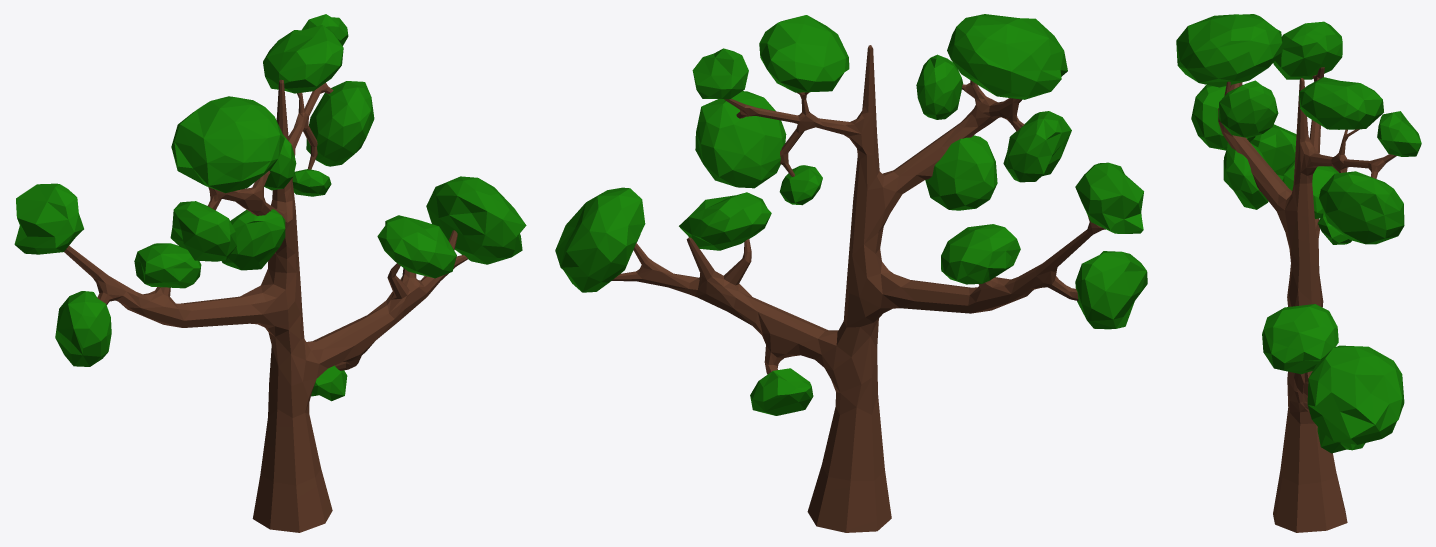
The model's file is 3Stad.fbx.
3 renders of one model, left to right at view 1: azimuth 30°, elevation 25°; view 2: azimuth 150°, elevation 25°; view 3: azimuth 270°, elevation 25°, orthographic. The views are drawn at different scales.
Visible parts, largest first — view 1: Plane.005; view 2: Plane.005; view 3: Plane.005.
Part boxes in pixels (x1,y1,x2,y2): Plane.005: (14,14,526,532); Plane.005: (555,14,1147,532); Plane.005: (1176,14,1421,532).
Bounding box in the file's own units: 230 × 195 × 95.12.
